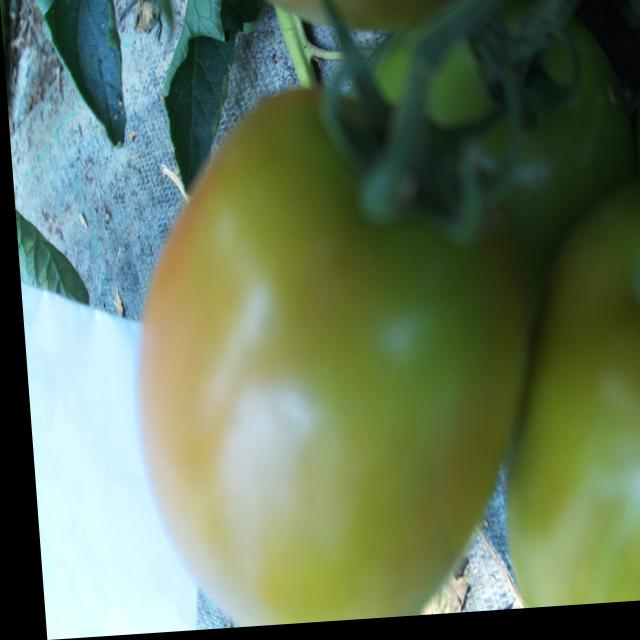yesil: (100, 61, 554, 625)
